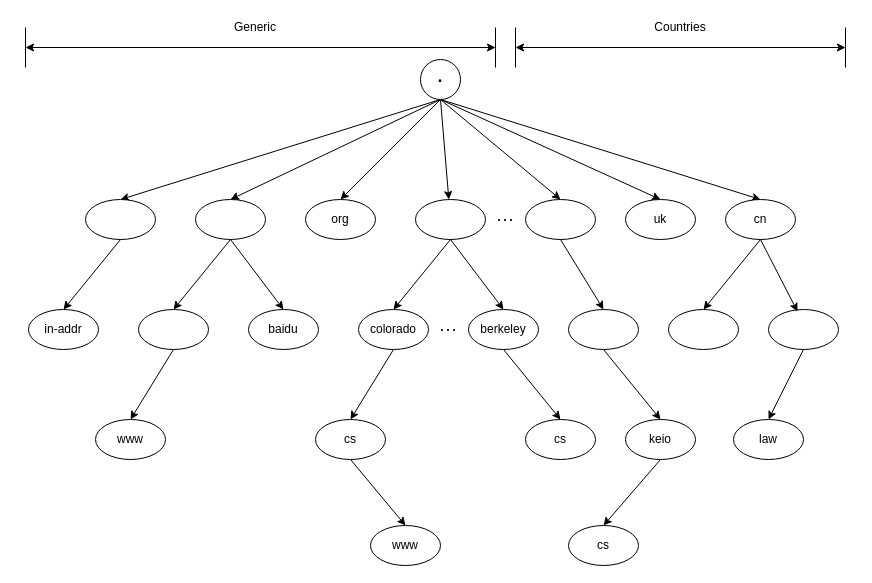
The diagram is 872 pixels wide and 583 high, and some of its shapes have lost their labels. Each missing label, with the centre of its shape:
ac: the point at 603,329
arpa: the point at 120,219
com: the point at 230,219
edu: the point at 450,219
google: the point at 173,329
jp: the point at 560,219
oce: the point at 703,329
vu: the point at 803,329
